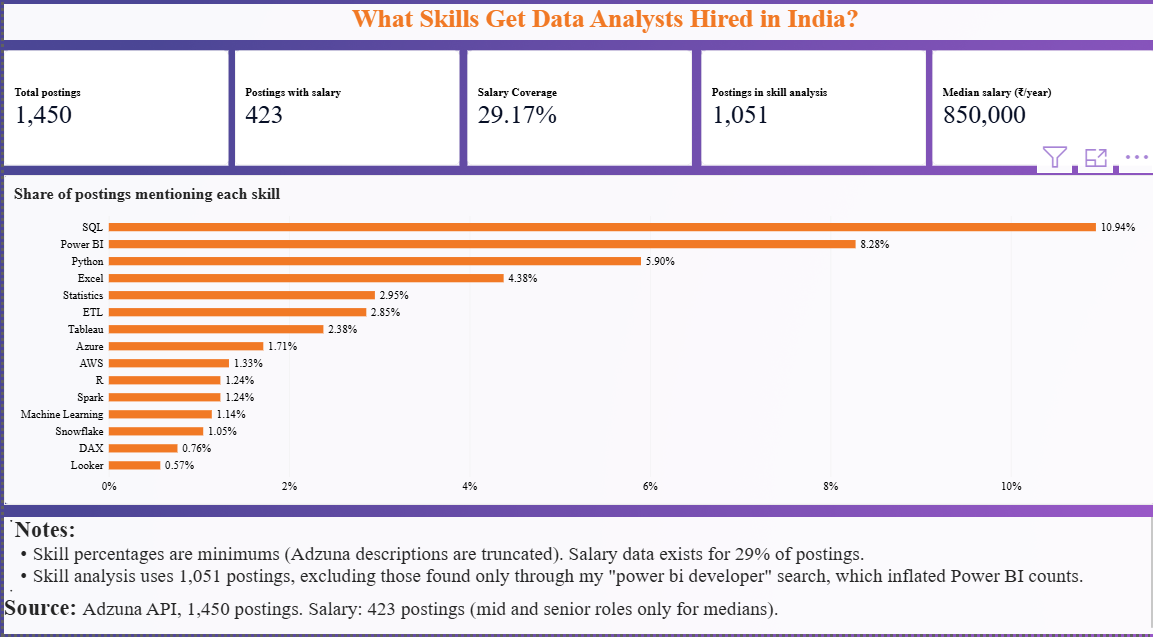

The dashboard page shown, as its layout file describes it:
{"tool":"powerbi","page":{"name":"Overview","canvas":[1920,1080],"ordinal":0},"visuals":[{"type":"cardVisual","fields":{"Data":["clean_jobs_final.Total Jobs Display"]},"box":[0,106.9,374,191.9],"z":0},{"type":"cardVisual","fields":{"Data":["clean_jobs_final.Jobs With Salary"]},"box":[385,106.7,374,191.9],"z":1000},{"type":"cardVisual","fields":{"Data":["clean_jobs_final.Salary Coverage %"]},"box":[772.4,106.9,374,191.9],"z":2000},{"type":"cardVisual","fields":{"Data":["clean_jobs_final.Unbiased Jobs Display"]},"box":[1163.4,106.9,374,191.9],"z":3000},{"type":"cardVisual","fields":{"Data":["clean_jobs_final.Median Salary Display"]},"box":[1547.2,106.9,374,191.9],"z":4000},{"type":"clusteredBarChart","title":"Share of postings mentioning each skill","fields":{"Category":["job_skills.skill"],"Y":["clean_jobs_final.% Jobs Requiring Skill"]},"box":[0,315.7,1921.2,548.9],"z":5000},{"type":"textbox","box":[0,30,1920,60],"z":6000},{"type":"textbox","box":[0,884.1,1921.2,196.7],"z":7000}]}

Visuals, with their boxes in screenshot pixels (x1, y1, x2, y2), scaled from the page's 1920x1080 canvas onto the 1153x637 screenshot:
cardVisual - clean_jobs_final.Total Jobs Display: <region>0, 63, 225, 176</region>
cardVisual - clean_jobs_final.Jobs With Salary: <region>231, 63, 456, 176</region>
cardVisual - clean_jobs_final.Salary Coverage %: <region>464, 63, 688, 176</region>
cardVisual - clean_jobs_final.Unbiased Jobs Display: <region>699, 63, 923, 176</region>
cardVisual - clean_jobs_final.Median Salary Display: <region>929, 63, 1152, 176</region>
"Share of postings mentioning each skill" clusteredBarChart: <region>0, 186, 1152, 510</region>
textbox: <region>0, 18, 1152, 53</region>
textbox: <region>0, 521, 1152, 636</region>
